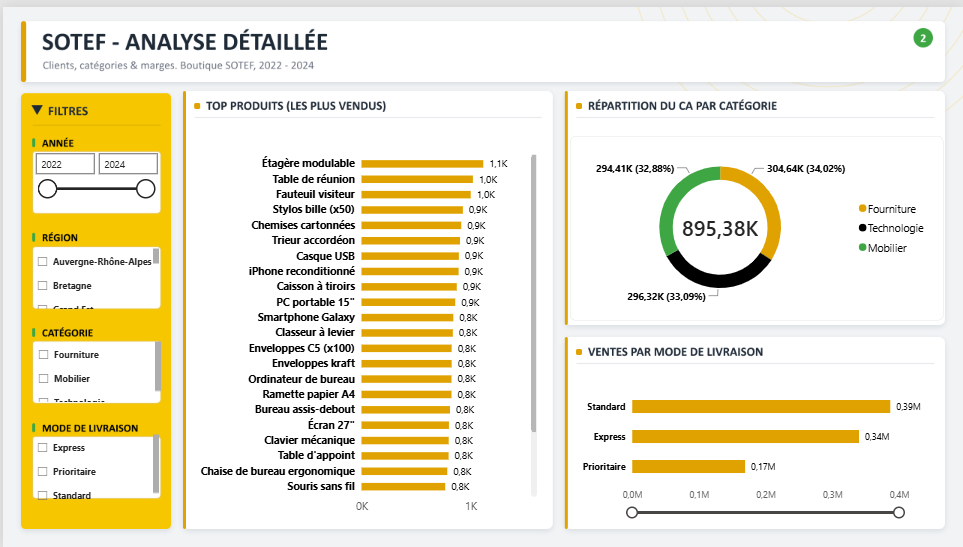

The dashboard page shown, as its layout file describes it:
{"tool":"powerbi","page":{"name":"Analyse détaillée","canvas":[1280,720],"ordinal":1},"visuals":[{"type":"image","box":[0,0,1280.1,720.6],"z":0},{"type":"slicer","fields":{"Values":["Ventes_SOTEF_brut.Date_Commande.Variation.Hiérarchie de dates.Année"]},"box":[36,190.8,170.5,92.3],"z":1000},{"type":"slicer","fields":{"Values":["Ventes_SOTEF_brut.Region"]},"box":[38,322,170,80],"z":2000},{"type":"slicer","fields":{"Values":["Ventes_SOTEF_brut.Categorie"]},"box":[39,445.7,170.8,79.7],"z":3000},{"type":"slicer","fields":{"Values":["Ventes_SOTEF_brut.Mode_Livraison"]},"box":[38,570,170,90],"z":4000},{"type":"barChart","fields":{"Category":["Ventes_SOTEF_brut.Produit"],"Y":["Mesures.Quantité vendue"]},"box":[246,174,482,522],"z":5000},{"type":"donutChart","fields":{"Category":["Ventes_SOTEF_brut.Categorie"],"Y":["Mesures.Chiffre d'affaire"]},"box":[756,172,498,246],"z":6000},{"type":"barChart","fields":{"Category":["Ventes_SOTEF_brut.Mode_Livraison"],"Y":["Mesures.Chiffre d'affaire"]},"box":[756,486,498,210],"z":6001}]}

Visuals, with their boxes in screenshot pixels (x1, y1, x2, y2), scaled from the page's 1280x720 canvas onto the 963x547 screenshot:
image: [0,0,962,546]
slicer - Ventes_SOTEF_brut.Date_Commande.Variation.Hiérarchie de dates.Année: [27,145,155,215]
slicer - Ventes_SOTEF_brut.Region: [29,245,156,305]
slicer - Ventes_SOTEF_brut.Categorie: [29,339,158,399]
slicer - Ventes_SOTEF_brut.Mode_Livraison: [29,433,156,501]
barChart - Ventes_SOTEF_brut.Produit x Mesures.Quantité vendue: [185,132,548,529]
donutChart - Ventes_SOTEF_brut.Categorie x Mesures.Chiffre d'affaire: [569,131,943,318]
barChart - Ventes_SOTEF_brut.Mode_Livraison x Mesures.Chiffre d'affaire: [569,369,943,529]
